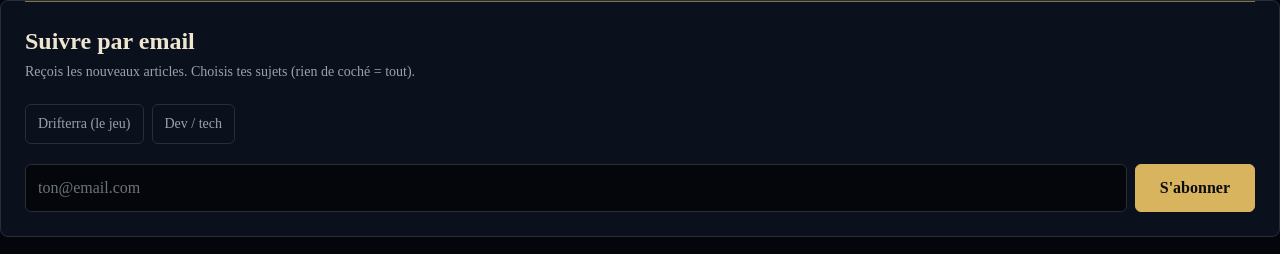
SubscribeForm › un sujet coché porte aria-pressed et le glyphe ✓
The image size is (1280, 254).
Click the button "Drifterra (le jeu)". click: click(84, 124)
box: [25,104,144,144]
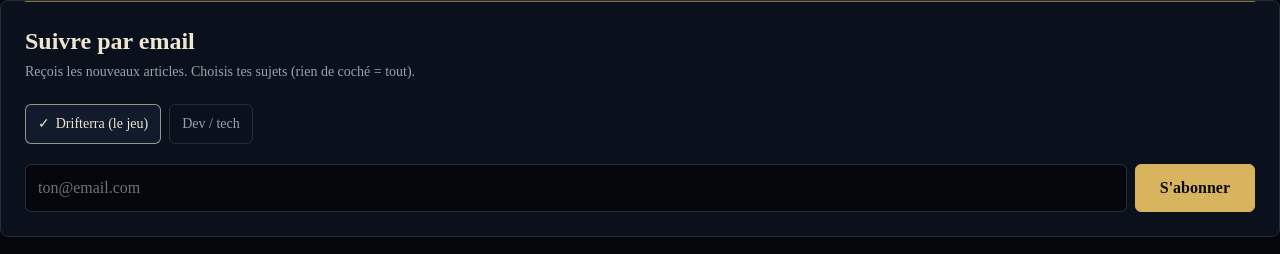
Result: the button "✓ Drifterra (le jeu)" is shown at [25,104,161,144]
